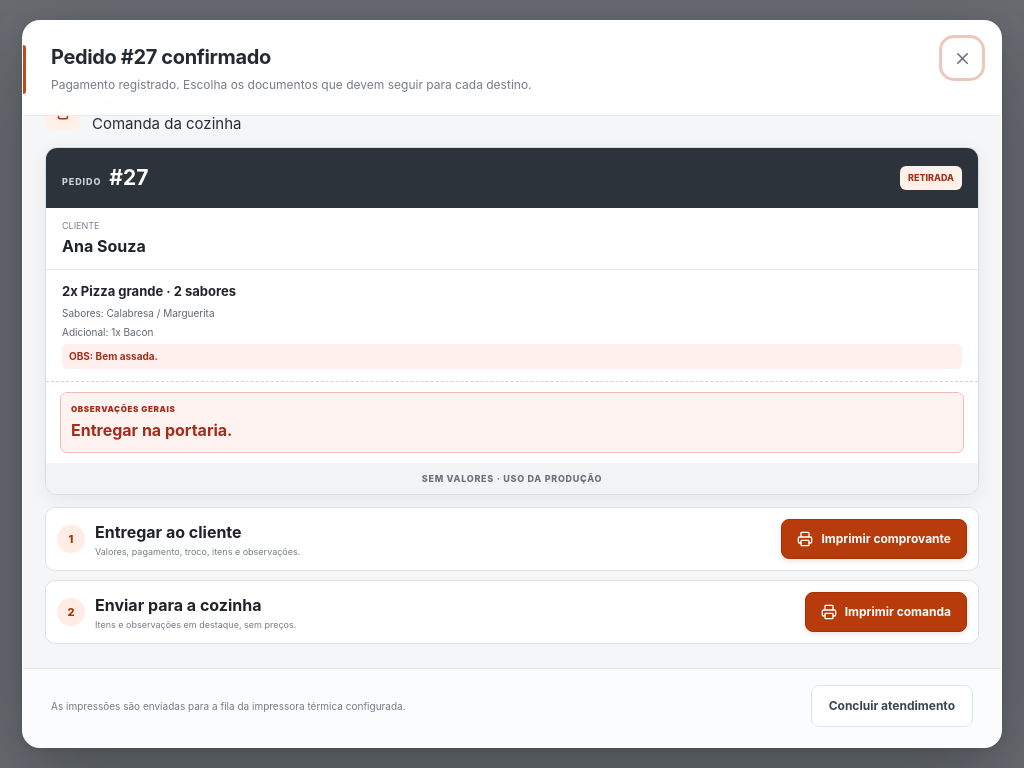
it: OrderReceiptDialog › envia comprovante e comanda para filas independentes
The image size is (1024, 768).
(page scrolled)
Click the button "Imprimir comprovante" at (874, 539), box [781,519,967,559]
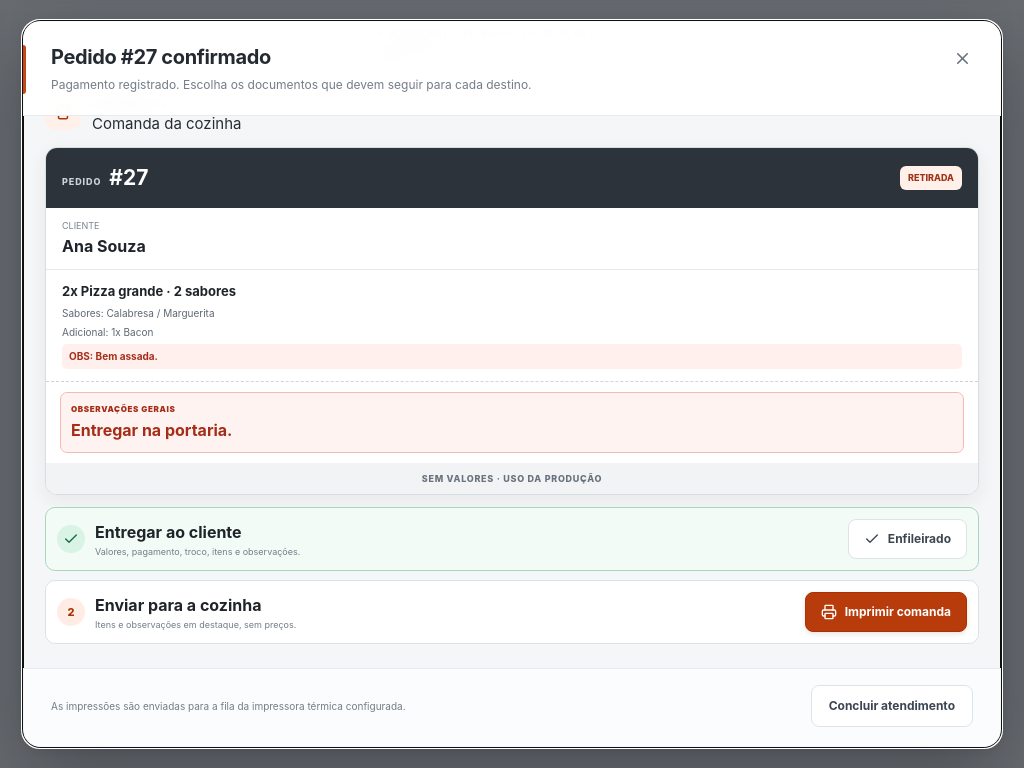
Click the button "Imprimir comanda" at (886, 612), box [805,592,967,632]
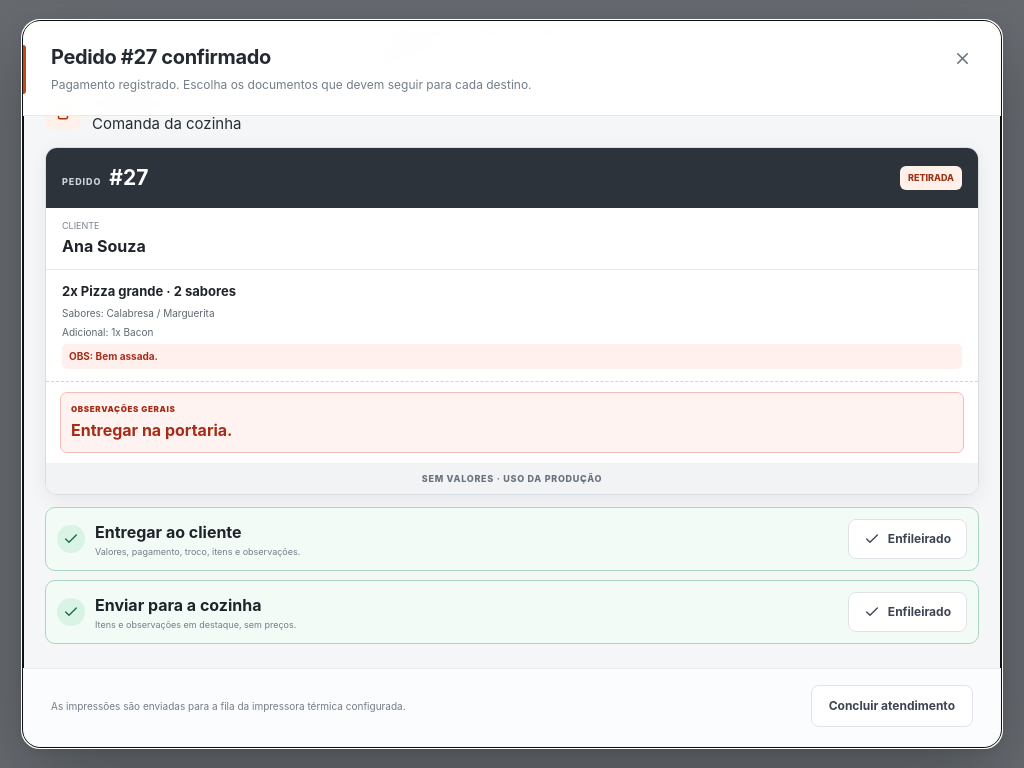
Expected: the number of buttons "Enfileirado" is 2, [848,519,967,559]; [848,592,967,632]
